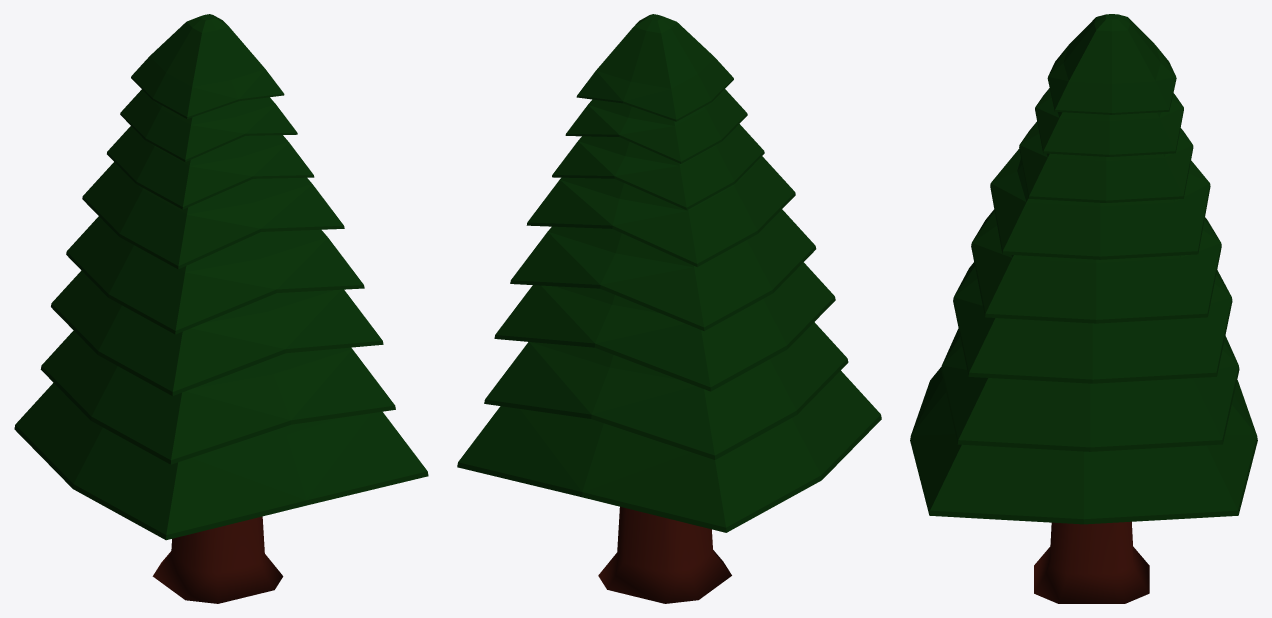
The model's file is tree2.obj.
The picture shows the model from 3 angles, left to right: view 1: azimuth 30°, elevation 25°; view 2: azimuth 150°, elevation 25°; view 3: azimuth 270°, elevation 25°; orthographic projection. The views are drawn at different scales.
Parts seen in each view (by area): view 1: Cube.000_Cube.011; view 2: Cube.000_Cube.011; view 3: Cube.000_Cube.011.
Boxes of the visible parts, x1=… form: Cube.000_Cube.011: x1=14, y1=14, x2=428, y2=603; Cube.000_Cube.011: x1=457, y1=14, x2=881, y2=603; Cube.000_Cube.011: x1=910, y1=14, x2=1257, y2=603.
Size of the model in its own units: 4.52 by 8.02 by 4.5.
